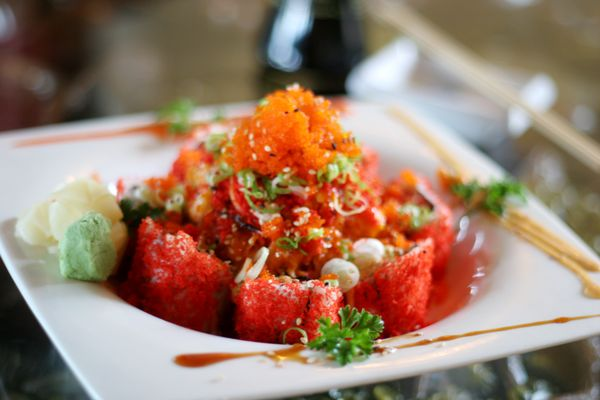burger: (452, 177, 600, 298)
